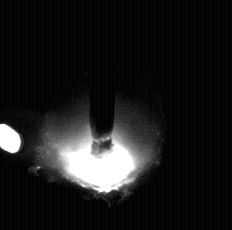arame: (90, 0, 115, 155)
poca: (37, 0, 163, 230)
